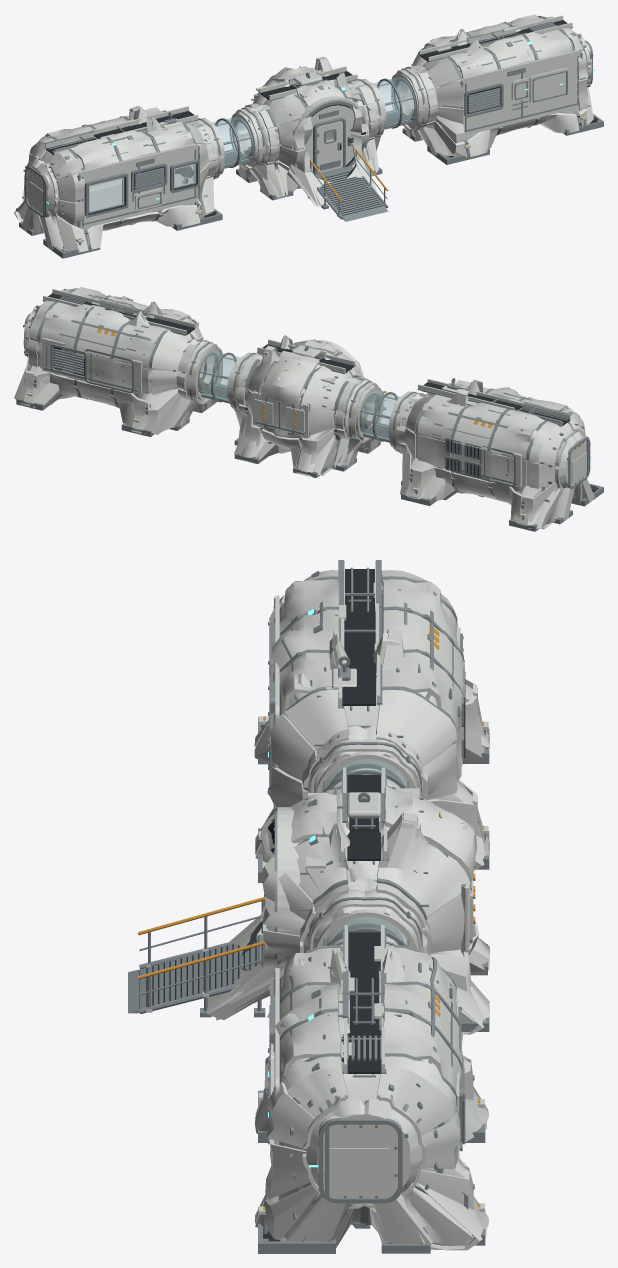
The model's file is outpost.glb.
The picture shows the model from 3 angles, top to bottom: view 1: azimuth 30°, elevation 25°; view 2: azimuth 150°, elevation 25°; view 3: azimuth 270°, elevation 25°; orthographic projection. The views are drawn at different scales.
Visible parts, largest first — view 1: Assembly.Coating.warm-ceramic, Assembly.Metal.machined, Assembly.Glass.clear-pressure-pane, Assembly.Seal.graphite; view 2: Assembly.Coating.warm-ceramic, Assembly.Metal.machined, Assembly.Glass.clear-pressure-pane, Assembly.Seal.graphite; view 3: Assembly.Coating.warm-ceramic, Assembly.Metal.machined, Assembly.Seal.graphite, Assembly.Glass.clear-pressure-pane, Assembly.Marking.ochre.
Boxes of the visible parts, <box> form: Assembly.Coating.warm-ceramic: <box>14,14,593,252</box>; Assembly.Metal.machined: <box>16,16,603,258</box>; Assembly.Glass.clear-pressure-pane: <box>89,77,415,213</box>; Assembly.Seal.graphite: <box>46,20,596,251</box>; Assembly.Coating.warm-ceramic: <box>14,287,594,529</box>; Assembly.Metal.machined: <box>16,289,603,531</box>; Assembly.Glass.clear-pressure-pane: <box>197,351,400,440</box>; Assembly.Seal.graphite: <box>48,293,596,492</box>; Assembly.Coating.warm-ceramic: <box>146,560,489,1250</box>; Assembly.Metal.machined: <box>128,560,489,1253</box>; Assembly.Seal.graphite: <box>146,569,465,1241</box>; Assembly.Glass.clear-pressure-pane: <box>321,759,411,947</box>; Assembly.Marking.ochre: <box>138,624,483,1209</box>.
Size of the model in its own units: 46.2 by 8.15 by 13.28.
